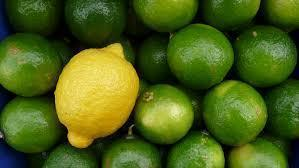lemon: (55, 42, 140, 148)
